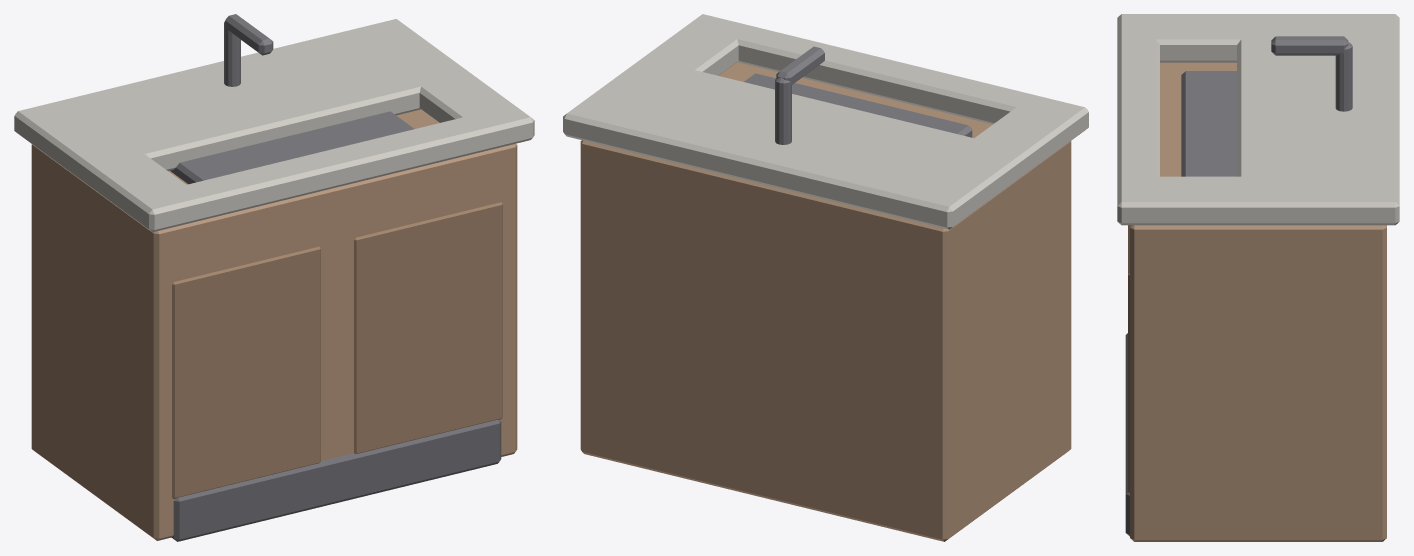
The model's file is SM_Sink.fbx.
The picture shows the model from 3 angles, left to right: view 1: azimuth 30°, elevation 25°; view 2: azimuth 150°, elevation 25°; view 3: azimuth 270°, elevation 25°; orthographic projection.
Visible parts, largest first — view 1: Sink; view 2: Sink; view 3: Sink.
Part boxes in pixels (left/top/right/bottom): Sink: left=14, top=14, right=534, bottom=541; Sink: left=563, top=14, right=1088, bottom=541; Sink: left=1117, top=14, right=1399, bottom=541.
Bounding box in the file's own units: 106 × 108 × 66.
